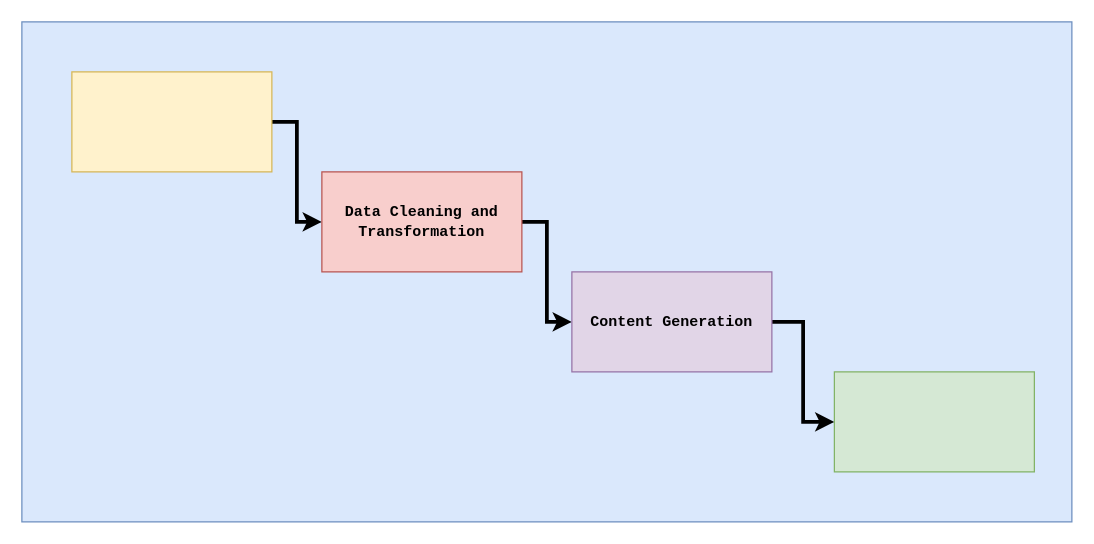
The diagram is 1094 pixels wide and 544 high, and some of its shapes have lost their labels. The centre of each missing label's shape, as x and y in pixels:
Data Extraction: the point at 171,121
Social Media Posting: the point at 933,421
